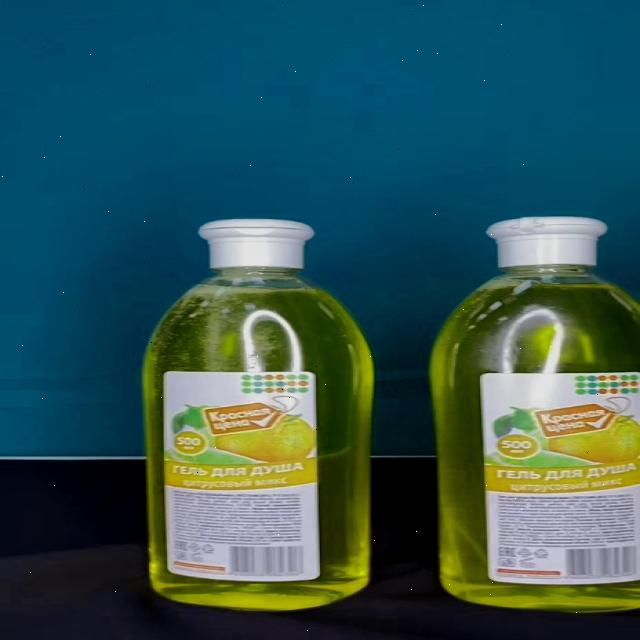Bottle: (141, 219, 374, 610), (429, 217, 640, 612)
Cap: (194, 220, 314, 270), (487, 217, 604, 266)
